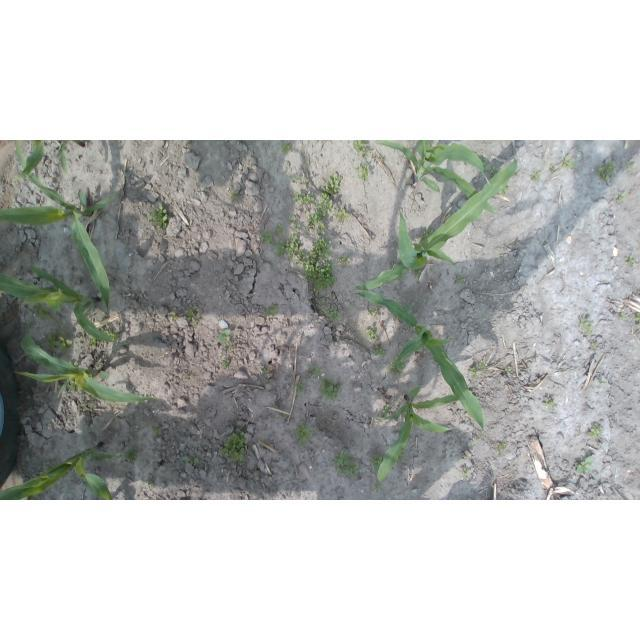Maize: (357, 158, 519, 292), (0, 140, 114, 322), (352, 290, 485, 446), (0, 265, 132, 347), (14, 332, 154, 404), (375, 385, 461, 487), (377, 140, 495, 214), (0, 442, 120, 500), (13, 140, 86, 184)
Weeds: (304, 261, 337, 293), (218, 428, 246, 464), (275, 236, 302, 261), (43, 332, 73, 354), (334, 452, 360, 477), (319, 376, 343, 402), (309, 238, 332, 264), (147, 204, 169, 229), (32, 303, 56, 325), (322, 173, 342, 196), (315, 192, 333, 217), (307, 212, 326, 234), (295, 423, 313, 445), (576, 456, 595, 474), (598, 161, 615, 181), (217, 329, 232, 351), (97, 327, 119, 341), (353, 140, 371, 157), (578, 317, 594, 336), (292, 192, 313, 205), (184, 308, 200, 325), (334, 208, 350, 224), (356, 164, 371, 181), (124, 447, 141, 461), (370, 454, 384, 471), (587, 424, 602, 439), (296, 251, 310, 266), (66, 379, 80, 394), (390, 360, 406, 373), (260, 232, 275, 245), (562, 156, 576, 169), (421, 228, 436, 240), (328, 308, 341, 321), (267, 304, 281, 316), (365, 326, 377, 339), (184, 456, 201, 465), (309, 364, 321, 376), (339, 256, 352, 267), (543, 397, 554, 410), (497, 441, 507, 455), (369, 308, 380, 320), (381, 404, 391, 417), (468, 368, 478, 381), (374, 346, 385, 357), (480, 157, 488, 172), (296, 382, 305, 395), (490, 166, 499, 179), (276, 223, 285, 235), (68, 359, 80, 368), (618, 191, 628, 201), (282, 143, 291, 154), (88, 336, 97, 347), (625, 256, 636, 265), (479, 361, 488, 371), (290, 225, 301, 233), (501, 185, 509, 196), (531, 172, 541, 180), (232, 190, 240, 199), (168, 313, 177, 321), (154, 427, 163, 435), (462, 466, 468, 478), (278, 412, 288, 419), (624, 162, 632, 170), (457, 276, 464, 285), (24, 325, 32, 332), (505, 366, 512, 374), (289, 215, 298, 221), (223, 360, 229, 369), (301, 177, 308, 184), (291, 177, 298, 184), (416, 270, 423, 277), (263, 369, 270, 376), (397, 452, 403, 460), (620, 312, 626, 320), (316, 300, 325, 305), (85, 420, 90, 428), (636, 312, 640, 321), (376, 485, 381, 492), (550, 166, 555, 173), (462, 452, 467, 458), (184, 375, 189, 381), (498, 253, 504, 258), (148, 480, 153, 485), (592, 344, 597, 349), (636, 323, 640, 329), (636, 242, 640, 244)
